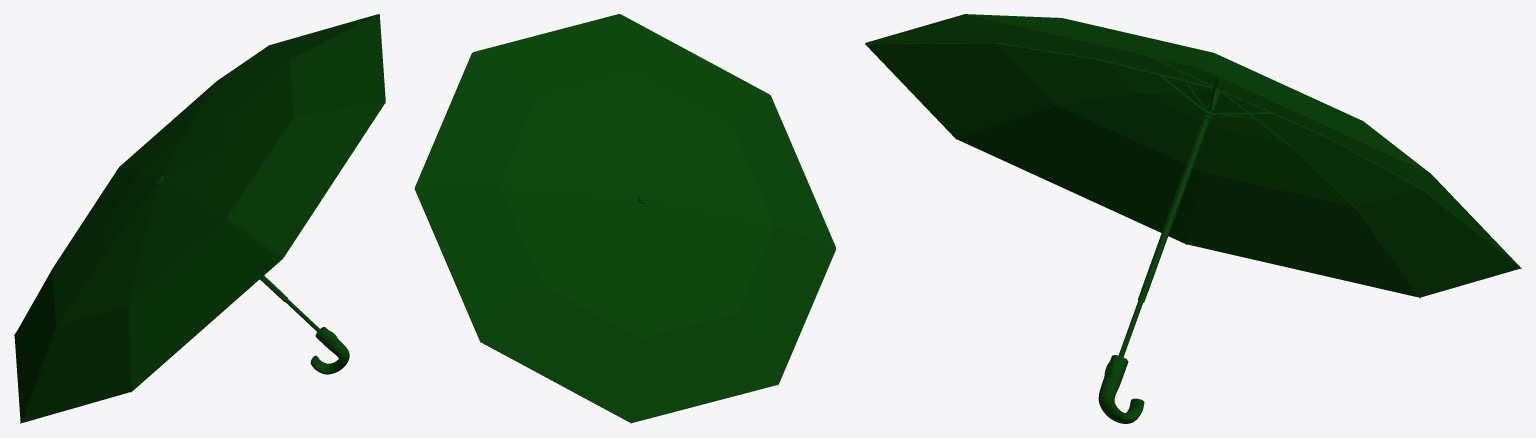
File: umbrella.FBX
3 views of the same model, side by side, from view 1: azimuth 30°, elevation 25°; view 2: azimuth 150°, elevation 25°; view 3: azimuth 270°, elevation 25° (orthographic). The views are drawn at different scales.
Visible parts, largest first — view 1: sub01; view 2: sub01; view 3: sub01.
Part boxes in pixels (x1,y1,x2,y2): sub01: (14, 14, 385, 423); sub01: (414, 14, 836, 423); sub01: (865, 14, 1521, 423).
Size of the model in its own units: 86.47 by 72.3 by 106.
